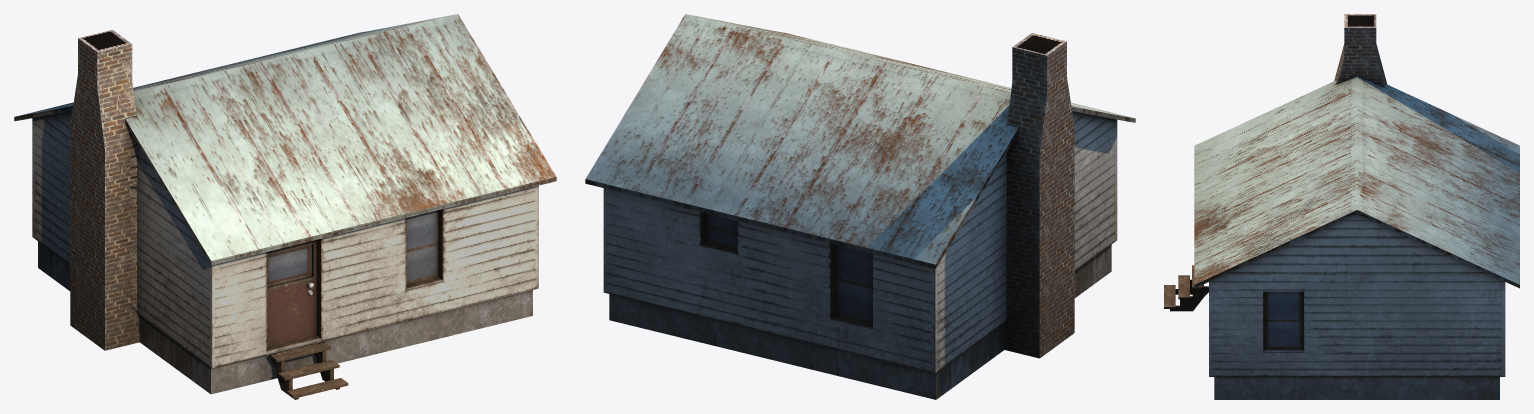
The model's file is Object001_unknown_0.glb.
The picture shows the model from 3 angles, left to right: view 1: azimuth 30°, elevation 25°; view 2: azimuth 150°, elevation 25°; view 3: azimuth 270°, elevation 25°; orthographic projection. The views are drawn at different scales.
Parts seen in each view (by area): view 1: house_test.007; view 2: house_test.007; view 3: house_test.007.
Part boxes in pixels (x1,y1,x2,y2): house_test.007: [14, 14, 556, 399]; house_test.007: [585, 14, 1135, 399]; house_test.007: [1164, 14, 1519, 399].
Size of the model in its own units: 9.44 by 7.17 by 9.55.
1 material, 1 textured.
